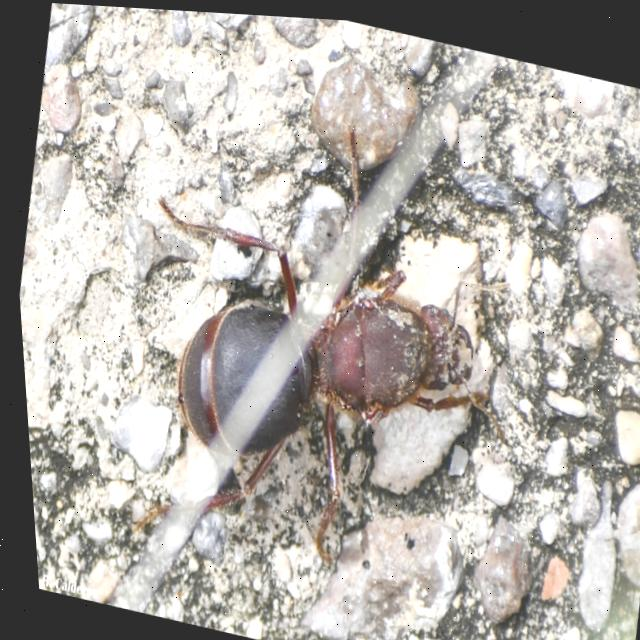Alive-Female-Dealate: (90, 75, 556, 612)
